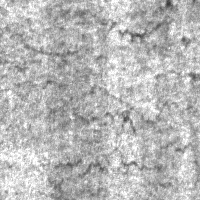crazing: (71, 84, 200, 172), (12, 2, 176, 58), (47, 140, 200, 200)
